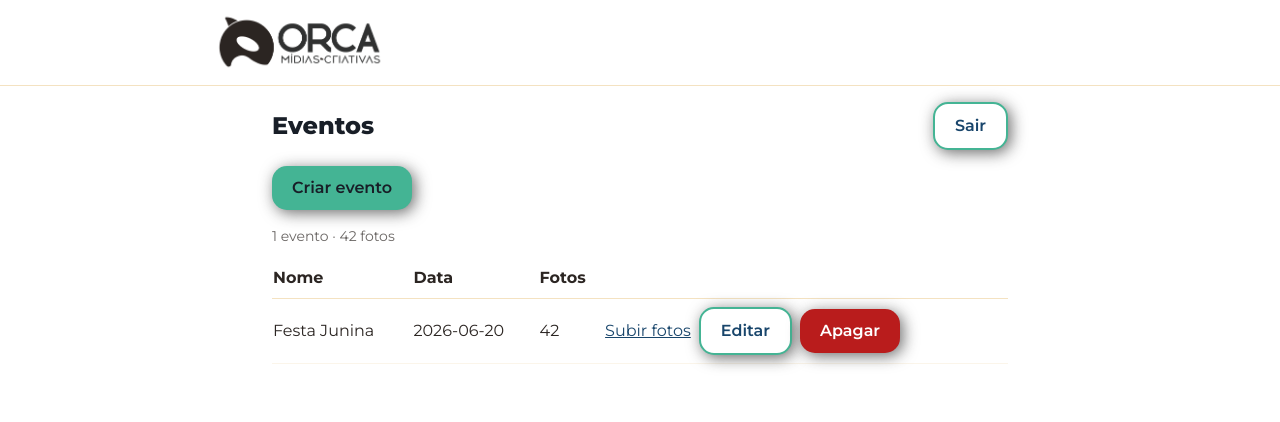
it: AdminEventsPage › surfaces the server error message when editing fails
Expected: the text "Festa Junina" is shown, [272, 298, 412, 363]
Click the button "Editar". click: (745, 331)
box: [699, 307, 792, 355]
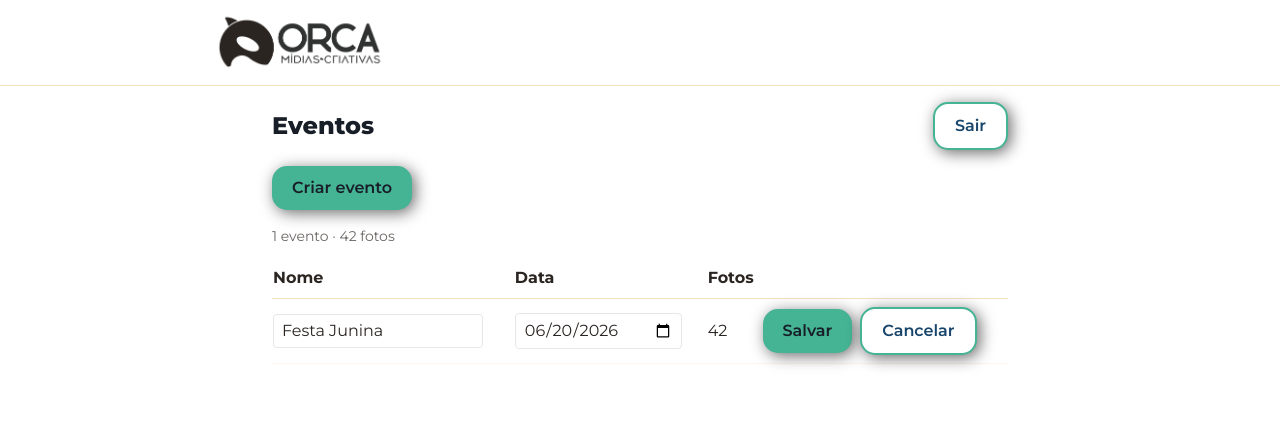
Click the button "Salvar". click: (807, 331)
box: [762, 309, 852, 353]
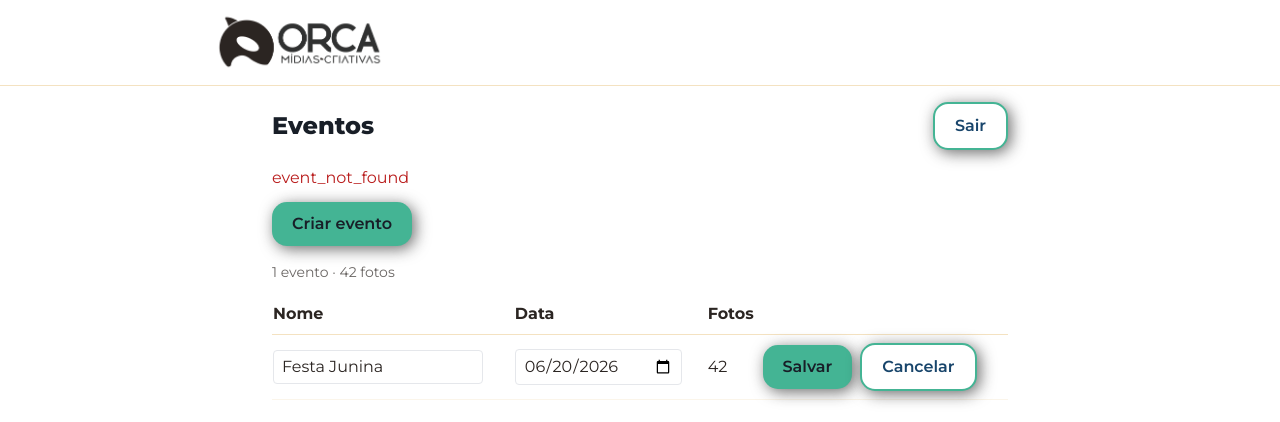
Expected: the message reads "event_not_found", [272, 168, 409, 187]
